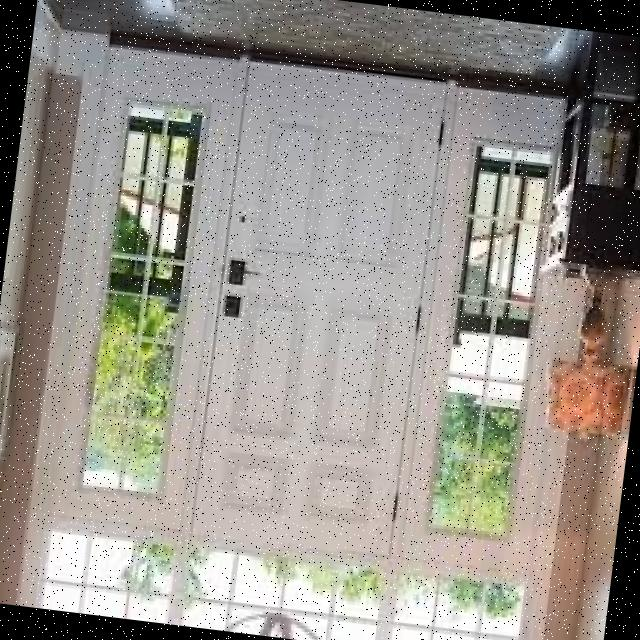Door: (185, 43, 455, 564)
